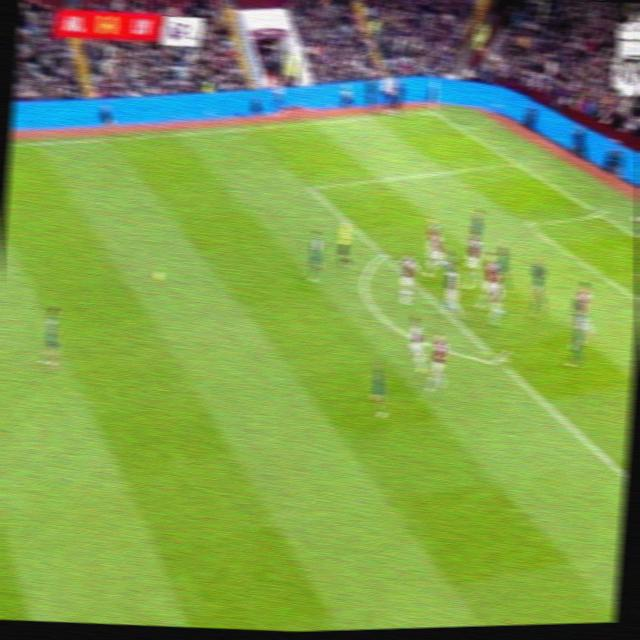bigarea_top_inner: (301, 175, 318, 196)
bigarea_top_outter: (505, 151, 525, 171)
bottom_arc_area_intersection: (489, 349, 510, 372)
corner: (419, 102, 442, 119)
smallarea_top_inner: (517, 214, 537, 235)
smallarea_top_outter: (588, 204, 608, 222)
top_arc_area_intersection: (372, 243, 391, 264)
